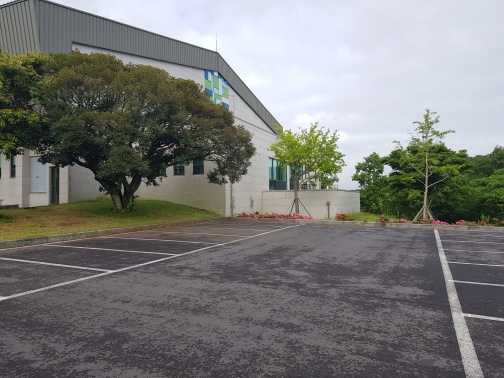Gym: (14, 10, 370, 222), (202, 67, 233, 113)
